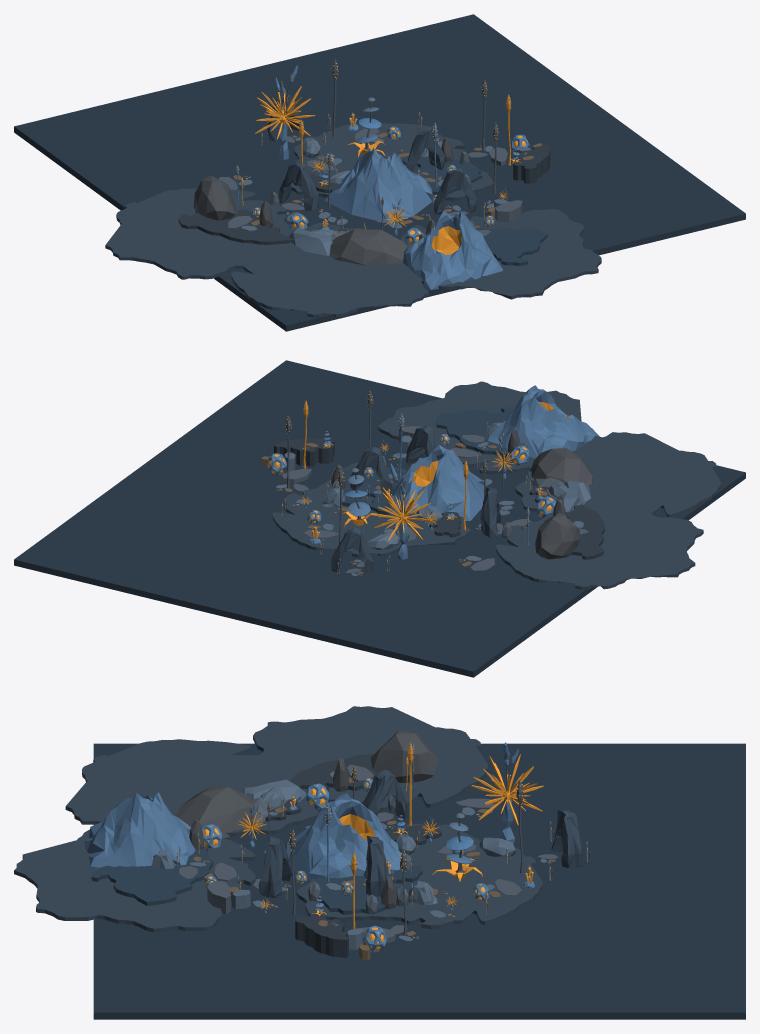
Rendered from Another_World.fbx.
3 views of the same model, one above another, from view 1: azimuth 30°, elevation 25°; view 2: azimuth 150°, elevation 25°; view 3: azimuth 270°, elevation 25° (orthographic). The views are drawn at different scales.
Parts seen in each view (by area): view 1: Ground_1, Ground_2_3, Ground_2_2, Ground_2_1, Landscape_1, Landscape_1_1, Ground_2, Sphere_3_2, Ground_4_1, Ground_3_1, Landscape_1_Spline_2, Cylinder_Cube_2_2 (+10 smaller); view 2: Ground_1, Ground_2_2, Ground_2_3, Ground_2, Ground_2_1, Landscape_1, Landscape_1_1, Ground_3_1, Sphere_3_2, Landscape_1_Spline_2, Cylinder_Cube_2_2, Sphere_8_2 (+11 smaller); view 3: Ground_1, Ground_2_2, Ground_2_3, Ground_2_1, Ground_2, Landscape_1_1, Landscape_1, Ground_3_1, Sphere_3_2, Sphere_8_2, Landscape_1_Spline_2, Cylinder_Cube_2_2 (+13 smaller).
Part boxes in pixels (x1,y1,x2,y2): Ground_1: (14, 14, 745, 331); Ground_2_3: (231, 223, 429, 317); Ground_2_2: (105, 188, 297, 279); Ground_2_1: (398, 209, 601, 299); Landscape_1: (324, 148, 432, 223); Landscape_1_1: (403, 211, 502, 289); Ground_2: (283, 123, 493, 200); Sphere_3_2: (329, 229, 407, 265); Ground_4_1: (178, 209, 290, 244); Ground_3_1: (475, 227, 547, 265); Landscape_1_Spline_2: (218, 133, 492, 236); Cylinder_Cube_2_2: (255, 65, 315, 159); Ground_1: (14, 360, 745, 677); Ground_2_2: (495, 496, 703, 589); Ground_2_3: (515, 432, 720, 517); Ground_2: (272, 462, 471, 557); Ground_2_1: (378, 381, 593, 473); Landscape_1: (392, 444, 484, 520); Landscape_1_1: (487, 385, 600, 458); Ground_3_1: (436, 407, 513, 457); Sphere_3_2: (530, 448, 592, 485); Landscape_1_Spline_2: (276, 435, 556, 576); Cylinder_Cube_2_2: (371, 463, 430, 559); Sphere_8_2: (535, 512, 579, 559); Ground_1: (93, 743, 745, 1019); Ground_2_2: (242, 706, 487, 811); Ground_2_3: (65, 739, 318, 836); Ground_2_1: (14, 829, 255, 932); Ground_2: (296, 823, 542, 929); Landscape_1_1: (84, 792, 195, 867); Landscape_1: (285, 793, 401, 881); Ground_3_1: (91, 847, 212, 905); Sphere_3_2: (176, 785, 254, 838); Sphere_8_2: (370, 730, 438, 782); Landscape_1_Spline_2: (179, 798, 557, 941); Cylinder_Cube_2_2: (471, 742, 543, 844).
Bounding box in the file's own units: 2582 × 491 × 2639.
1 material, 1 textured.
